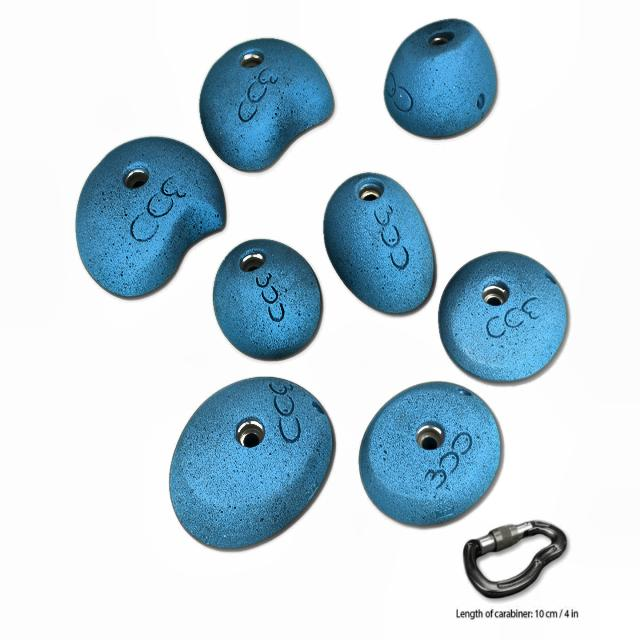Hold: (166, 376, 334, 552), (77, 138, 227, 298), (356, 380, 512, 528), (198, 41, 342, 172), (321, 173, 437, 320), (442, 246, 565, 384), (384, 22, 511, 143), (212, 244, 326, 358)
